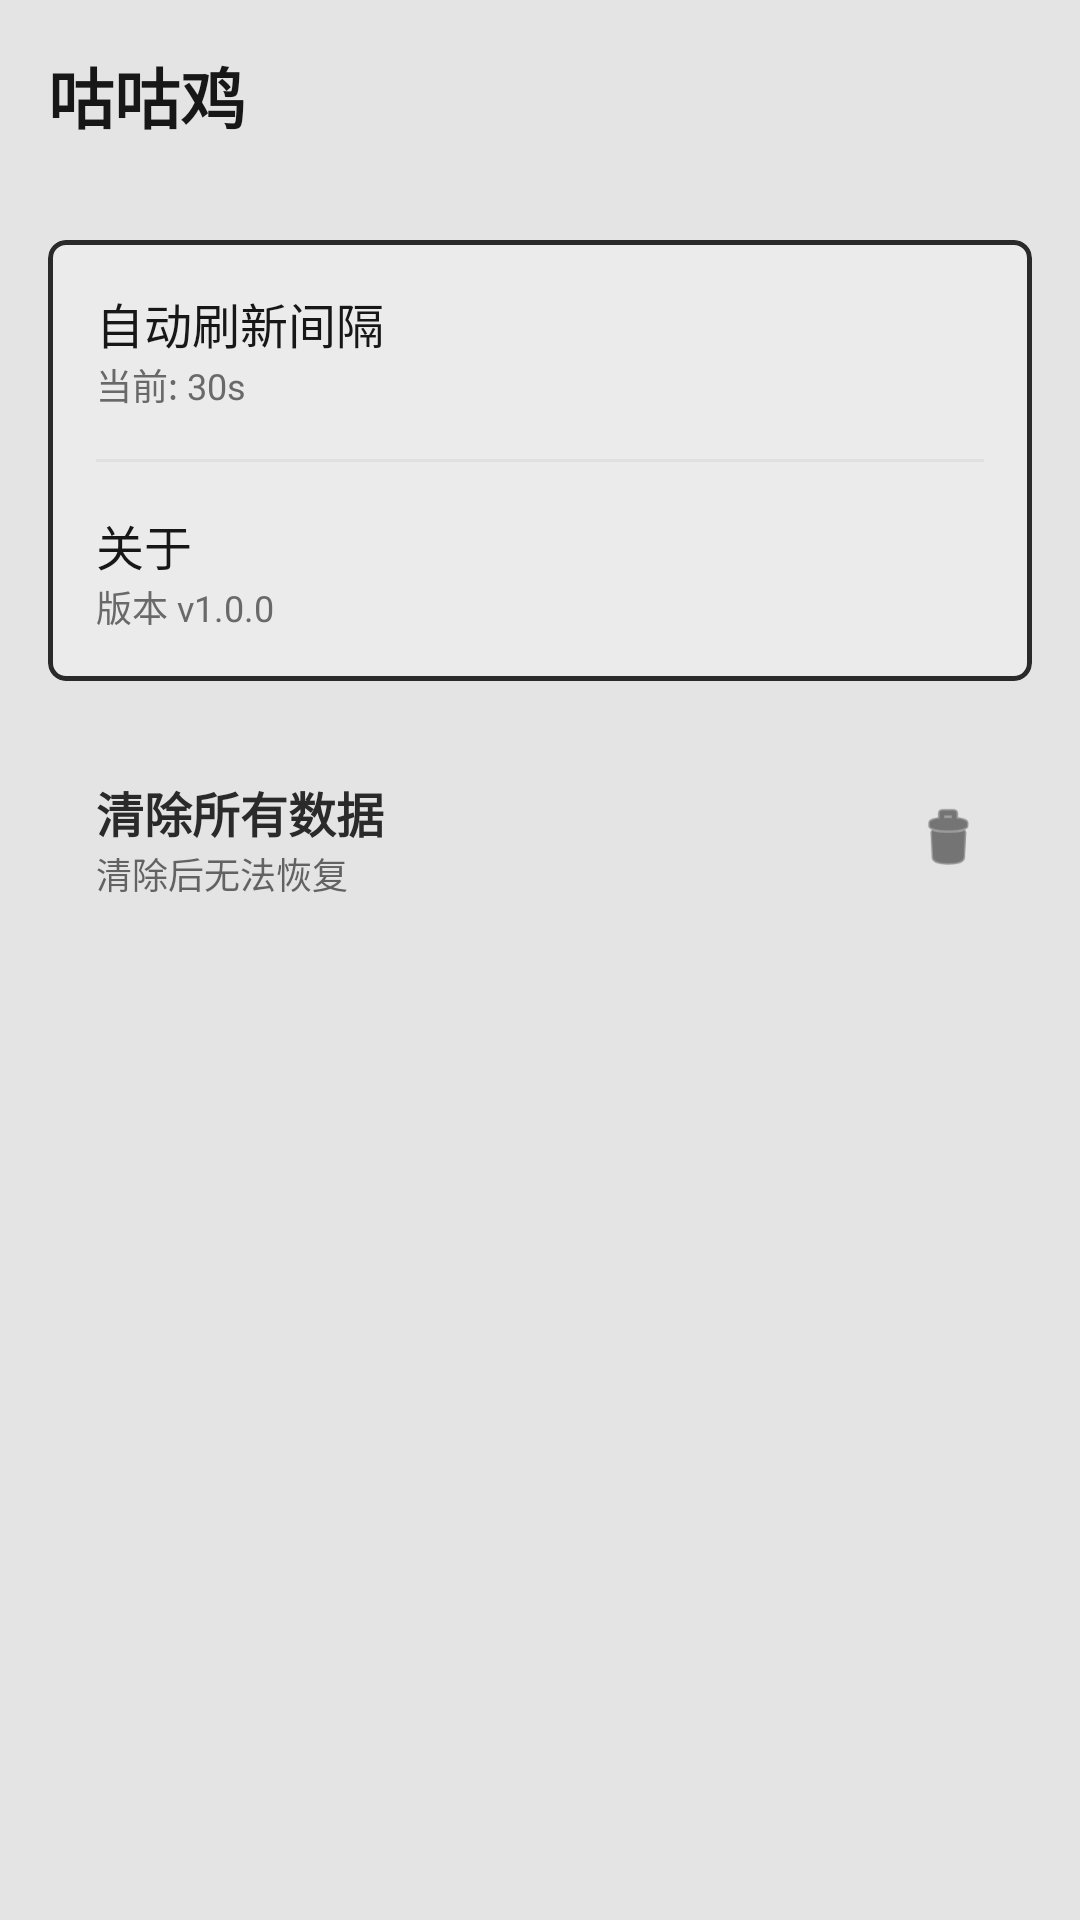

Icon click points for this 1080 x 1920 phone screenshot, format (x,y):
delete: (948,837)
